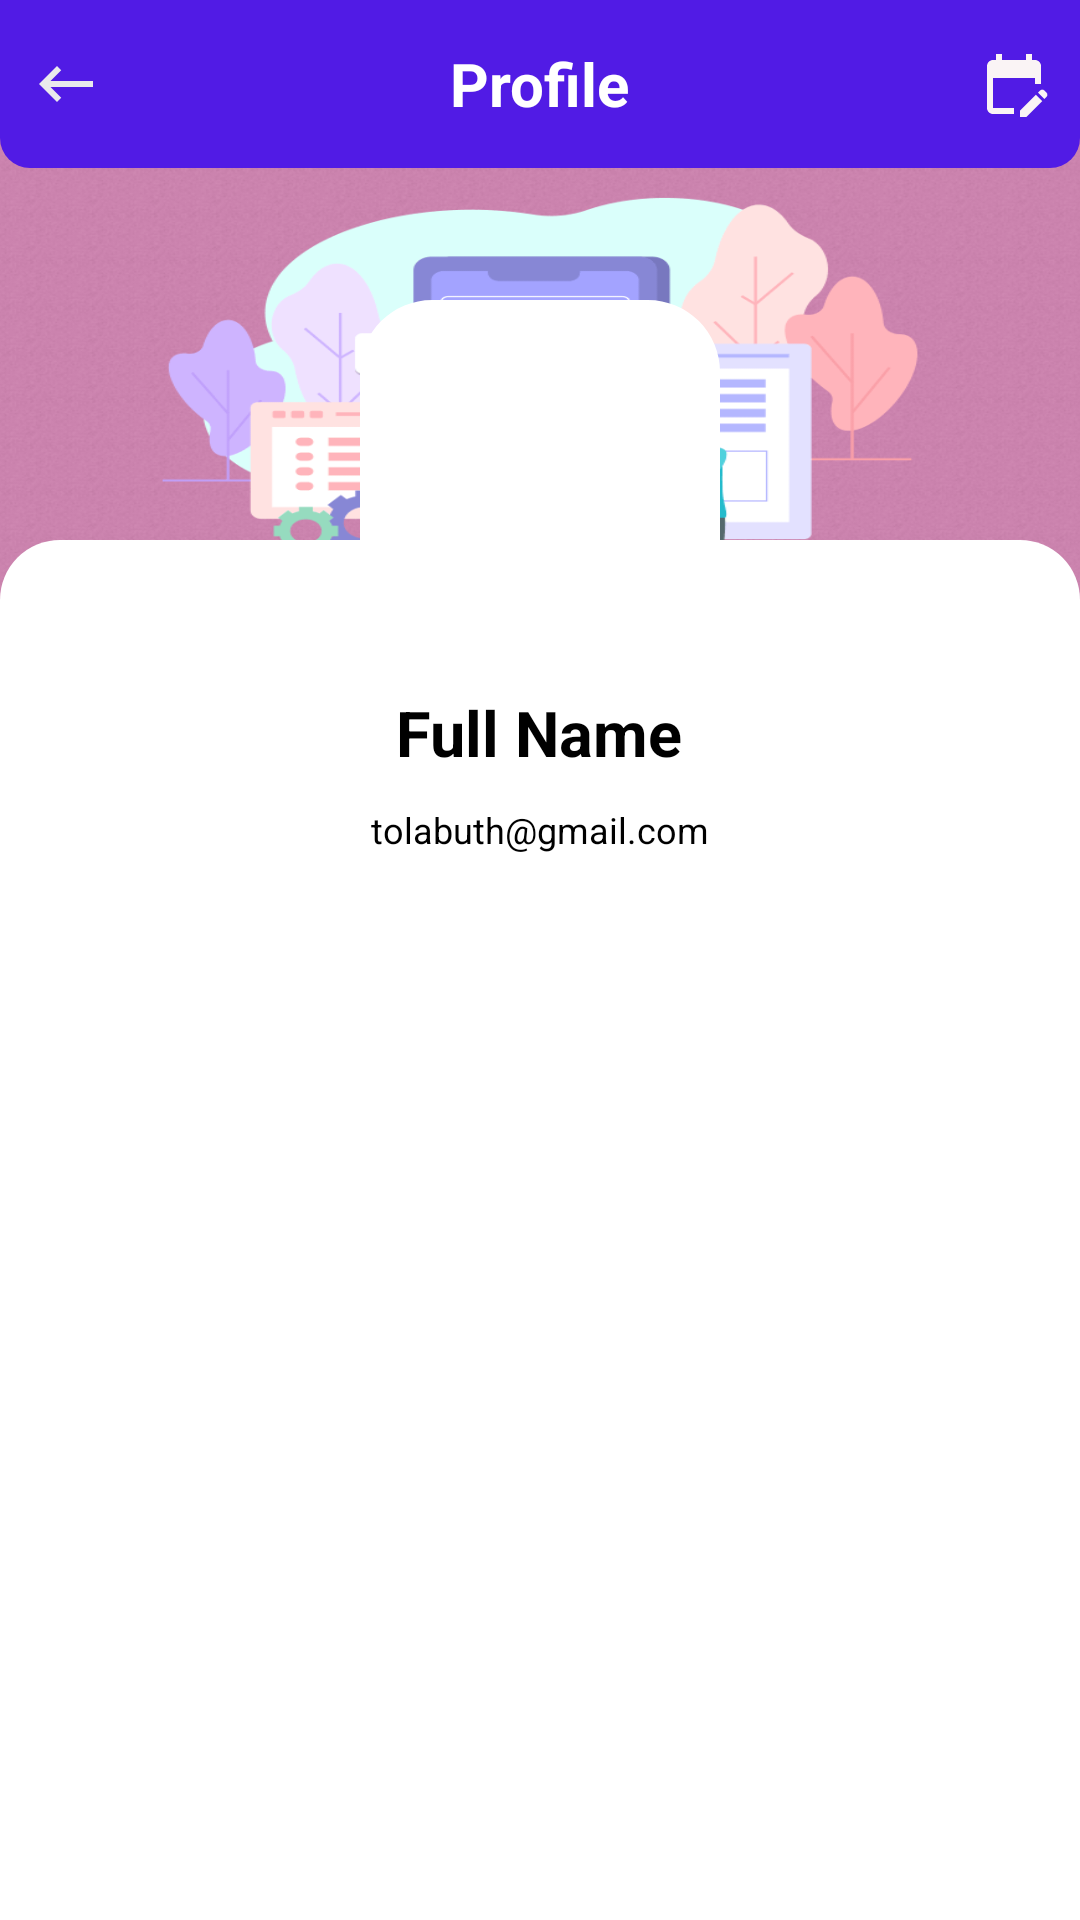

Screen size 1080px x 1920px. Icon name, then its box in pixels as (x1, y1, x2, y2):
back: (39, 66, 93, 102)
edit: (987, 54, 1048, 117)
